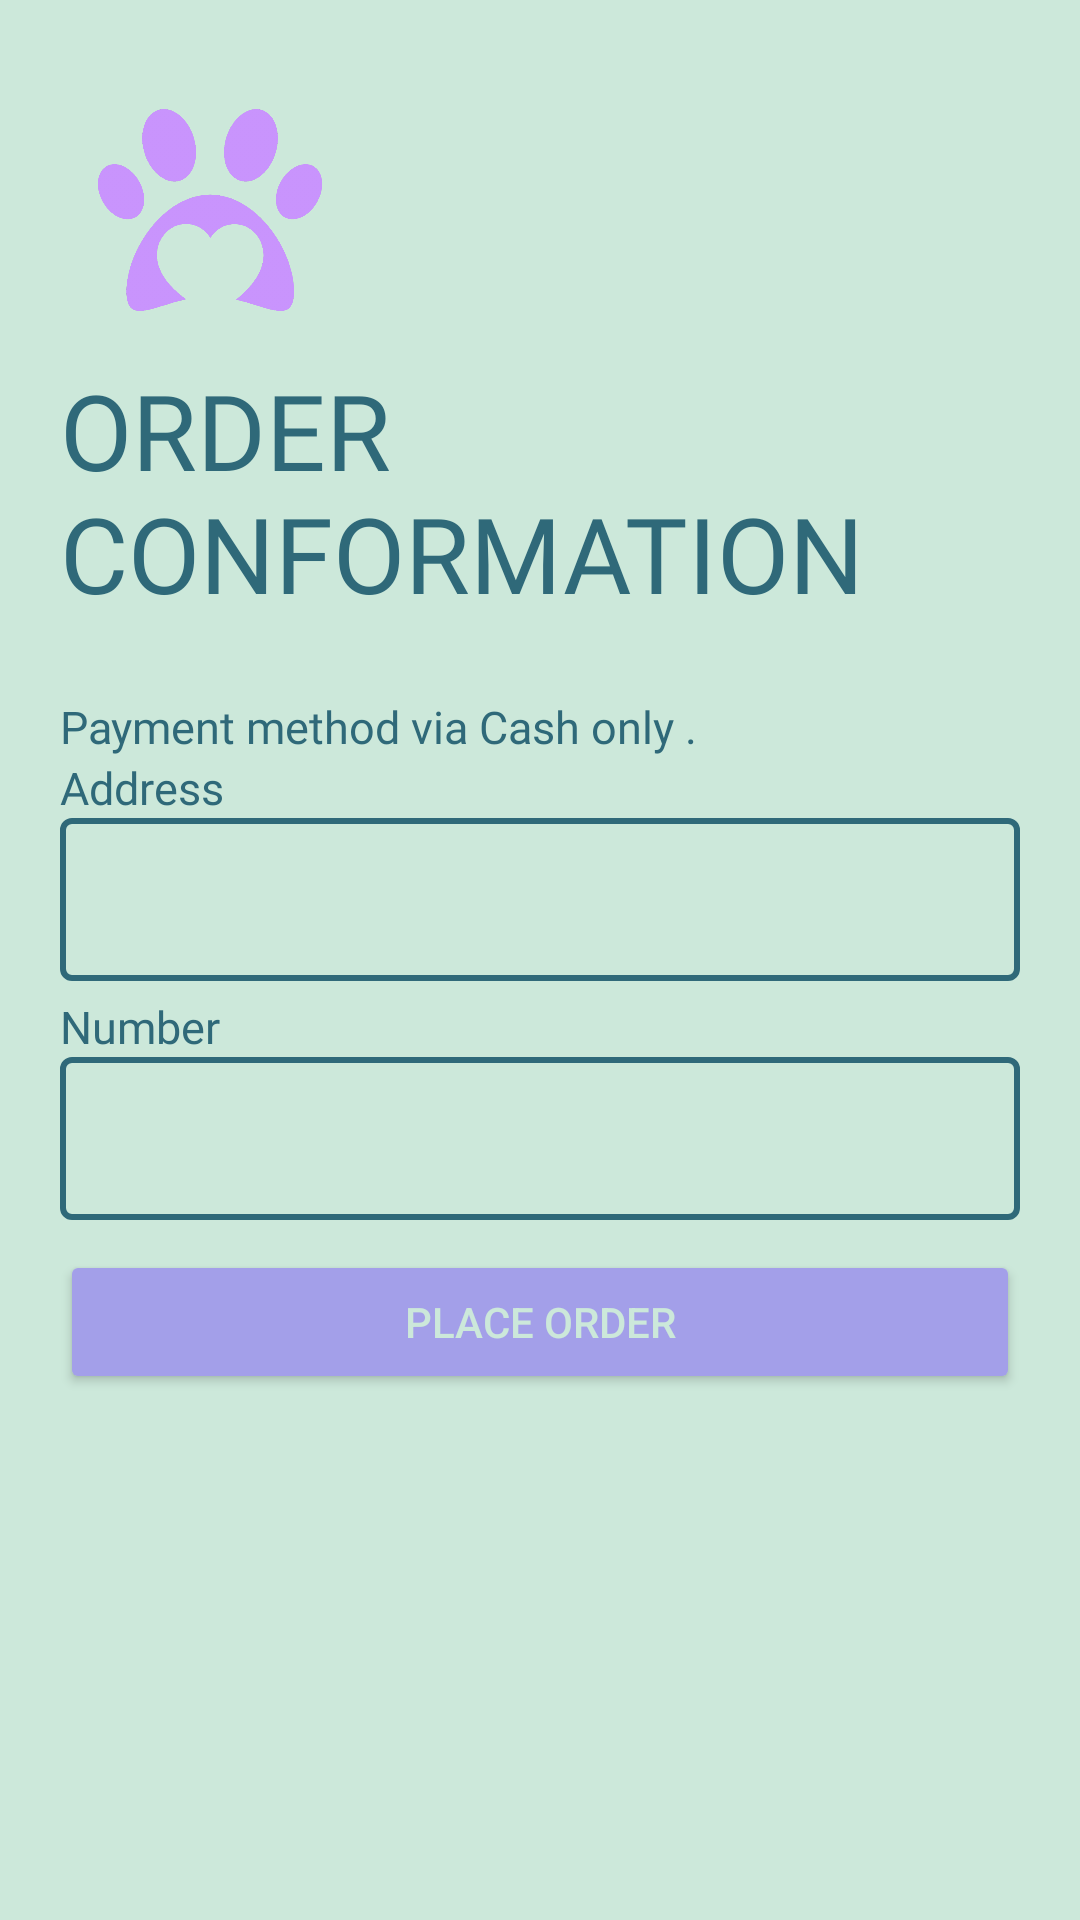

Icon click points for this 1080px×1920px phone screenshot, format (x=x, y=y):
paw: (x=210, y=210)
